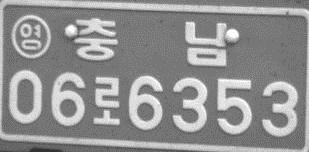0: (7, 68, 43, 124)
3: (261, 81, 298, 138), (171, 76, 207, 134)
5: (215, 77, 252, 136)
6: (126, 74, 163, 132), (49, 71, 87, 127)
로: (92, 75, 121, 126)
영: (10, 13, 52, 60)
충남_D: (73, 17, 231, 68)
